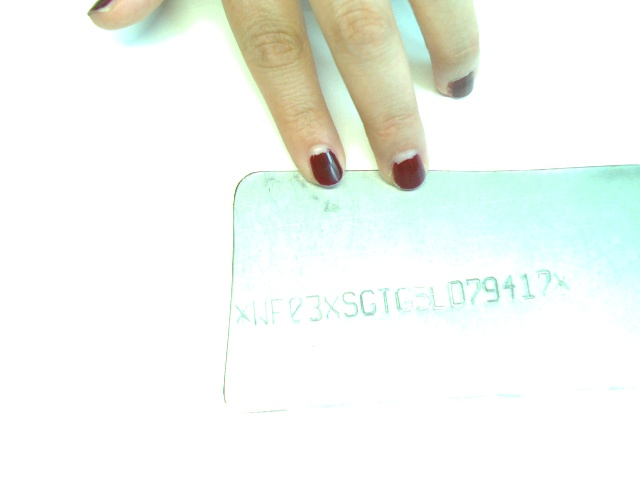0: (287, 296, 305, 325)
1: (519, 271, 538, 301)
3: (306, 292, 325, 322)
4: (503, 273, 518, 303)
5: (413, 284, 430, 313)
7: (534, 268, 556, 304), (466, 277, 482, 305)
9: (482, 275, 501, 303)
d: (446, 281, 467, 308)
f: (270, 298, 285, 326)
g: (360, 288, 379, 319), (395, 285, 414, 314)
l: (428, 283, 446, 310)
s: (340, 290, 360, 320)
t: (377, 286, 396, 318)
w: (250, 298, 271, 326)
x: (324, 293, 342, 321)
